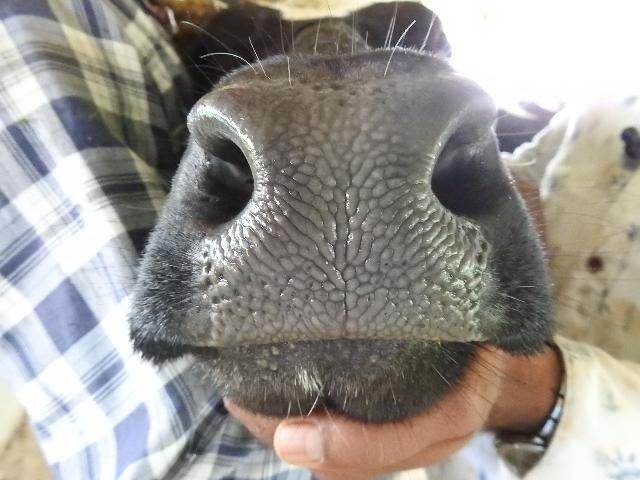Muzzle: (232, 100, 440, 344)
